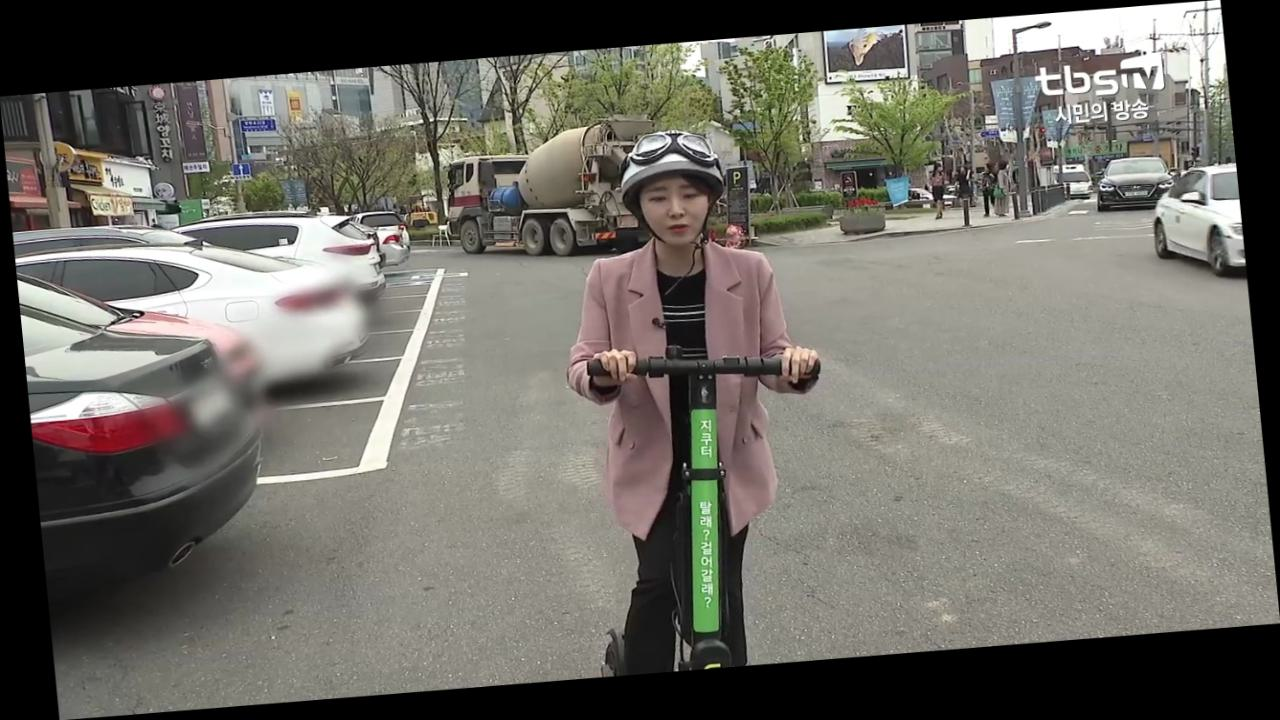helmet: (542, 117, 851, 678)
